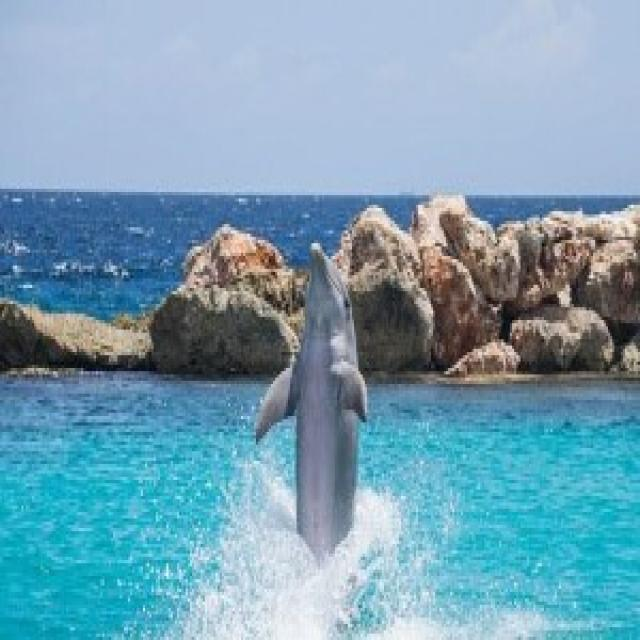Dolphin: (250, 237, 384, 620)
